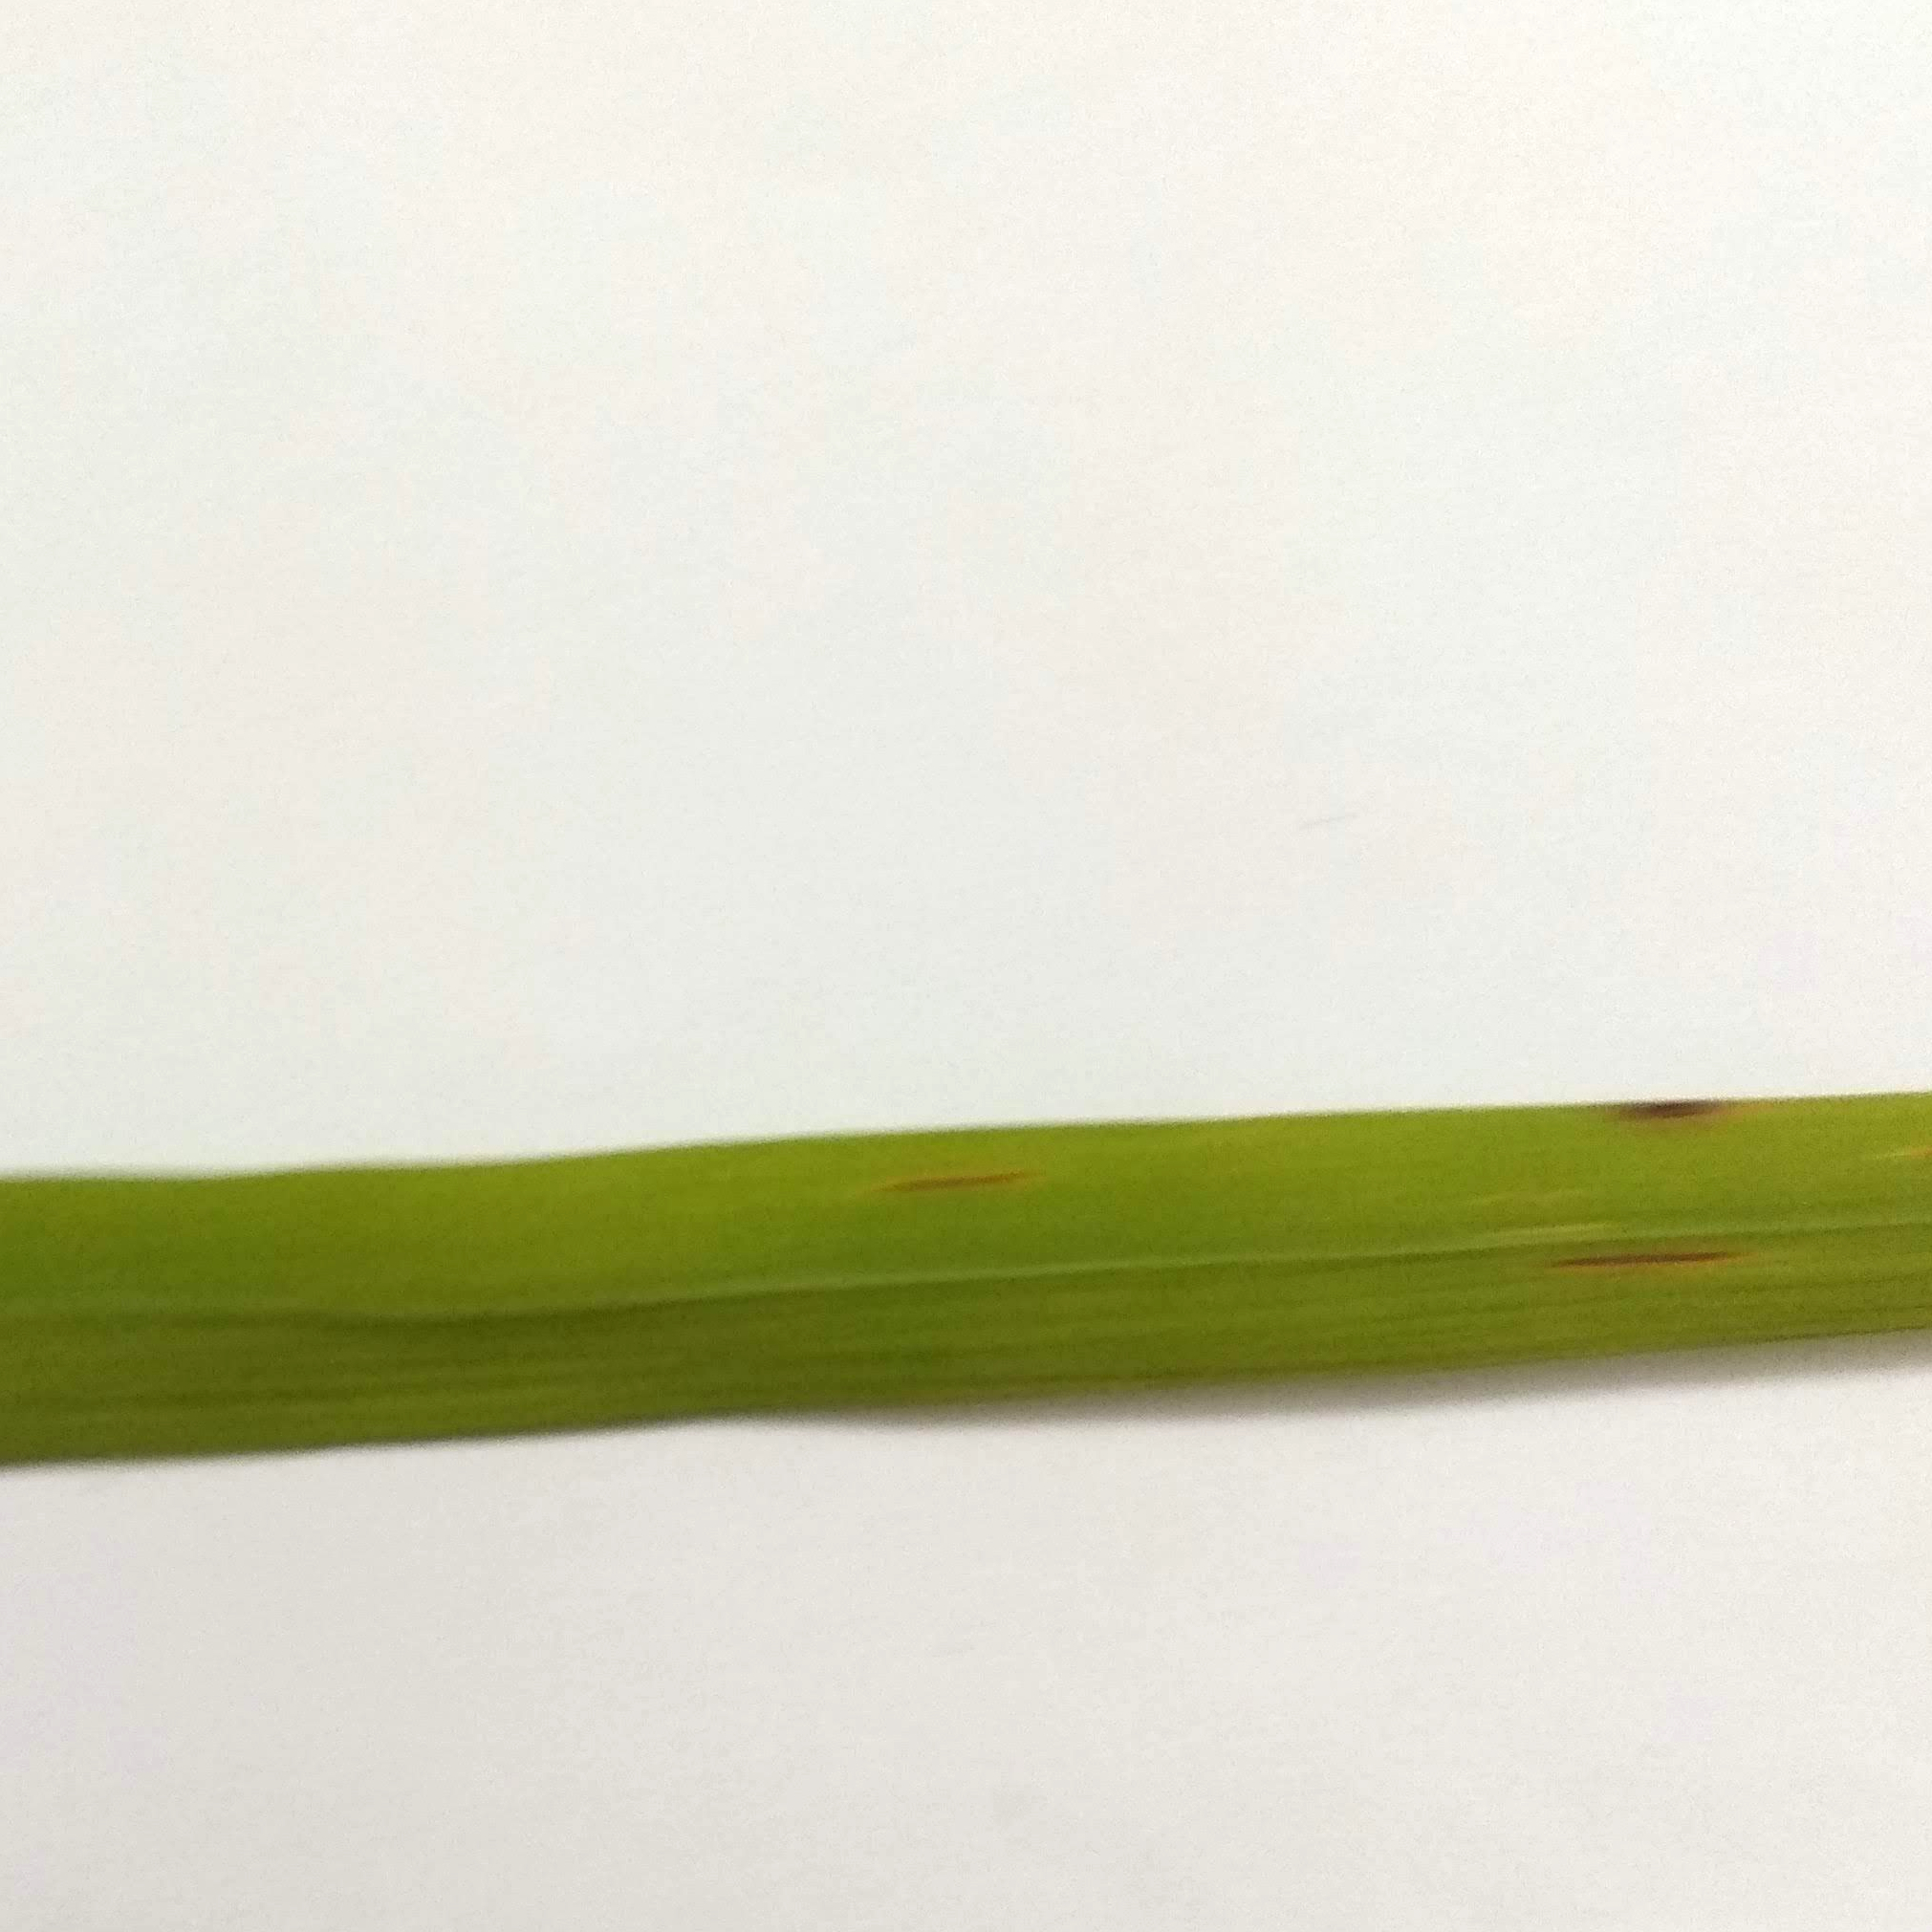brown spot: (1529, 1219, 1762, 1299), (1596, 1076, 1785, 1148), (862, 1146, 1035, 1212)
